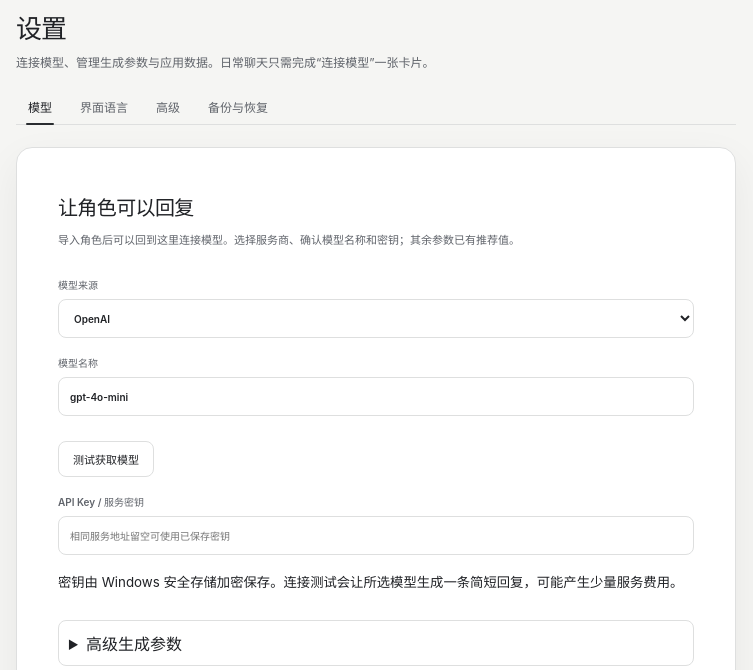
Test case: shows the editable address and protocol again for a custom provider
Step 1. Select "自定义（Anthropic 兼容）" in the dropdown labelled "模型来源" → (376,319), box x1=58 y1=300 x2=694 y2=338
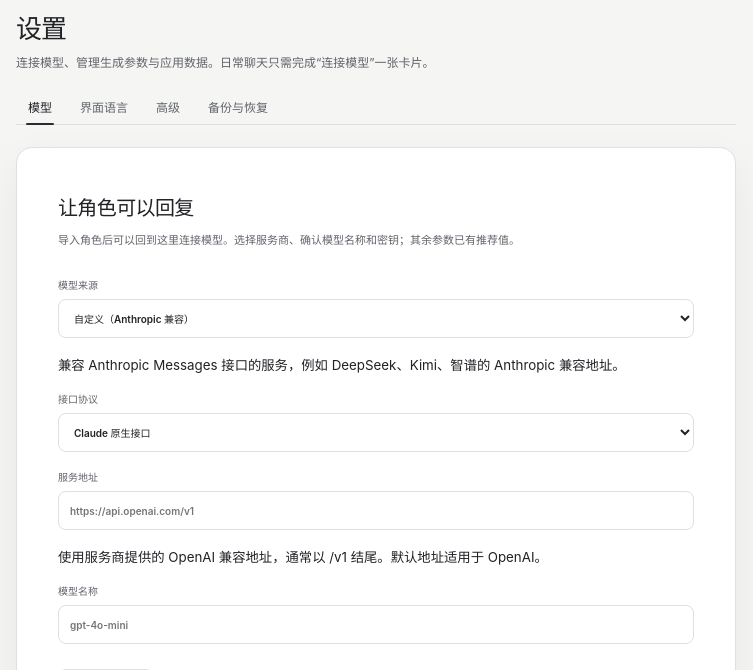
Expected: the field labelled "服务地址" is empty, x1=58 y1=492 x2=694 y2=530
Expected: the dropdown labelled "接口协议" shows "Claude 原生接口", x1=58 y1=414 x2=694 y2=452
